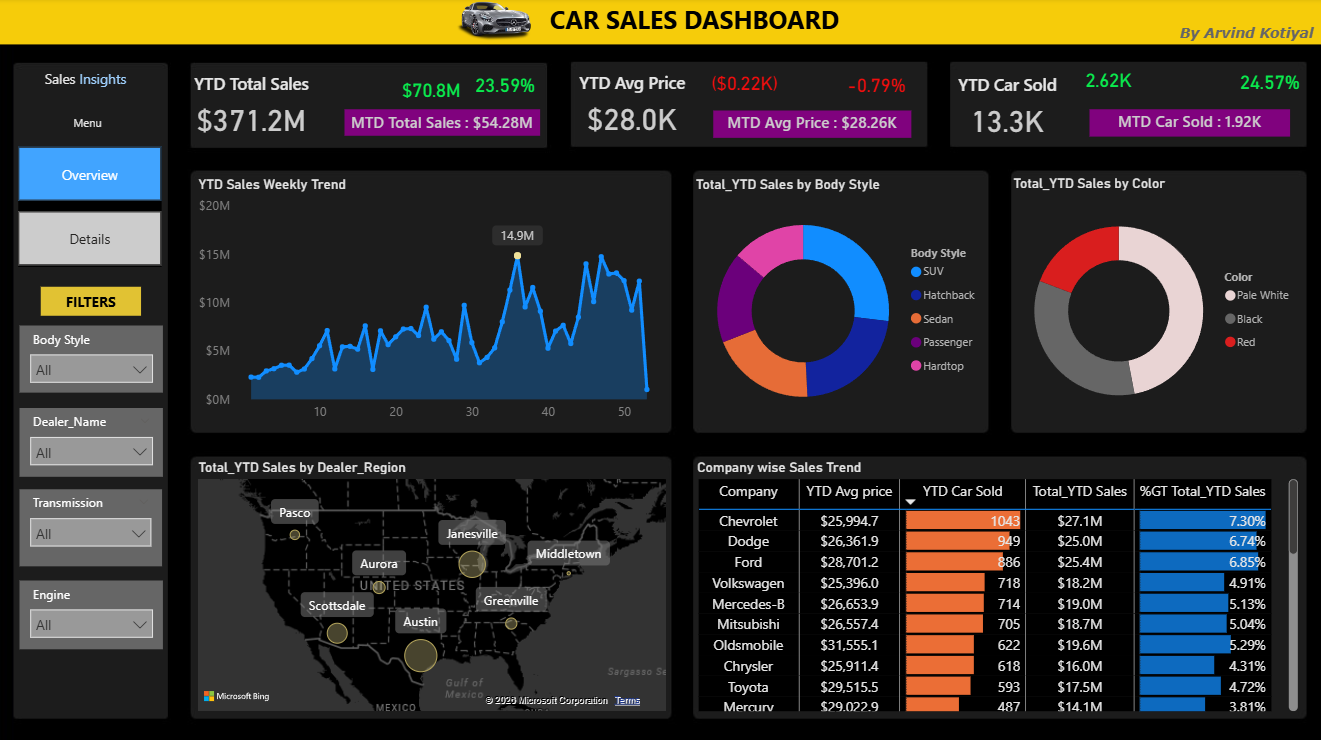

This screenshot's page, from the dashboard's own definition file:
{"tool":"powerbi","page":{"name":"Overview","canvas":[1280,720],"ordinal":0},"visuals":[{"type":"card","title":"YTD Total Sales","fields":{"Values":["car_data.Total_YTD Sales"]},"box":[164.1,71.2,162.9,70],"z":0},{"type":"card","title":"YTD Total Sales","fields":{"Values":["car_data.Sales difference"]},"box":[374,73.6,90.5,32.6],"z":1000},{"type":"card","title":"YTD Total Sales","fields":{"Values":["car_data.YOY"]},"box":[448.8,67.6,83.2,33.8],"z":2000},{"type":"card","fields":{"Values":["car_data.MTD KPI"]},"box":[335.6,107,188.5,25.5],"z":3000},{"type":"card","title":"YTD Avg Price","fields":{"Values":["car_data.YTD Avg price"]},"box":[546.1,70,133.1,70],"z":4000},{"type":"card","title":"YTD Total Sales","fields":{"Values":["car_data.Avg Price difference"]},"box":[677.2,66.9,90,32.8],"z":5000},{"type":"card","title":"YTD Total Sales","fields":{"Values":["car_data.YOY Avg price growth"]},"box":[804.7,66.4,88.1,36.2],"z":6000},{"type":"card","fields":{"Values":["car_data.MTD Avg Price KPI"]},"box":[691.8,108.2,190.9,26.7],"z":7000},{"type":"card","title":"YTD Car Sold","fields":{"Values":["car_data.YTD Car Sold"]},"box":[908.1,72.1,133.7,68.6],"z":8000},{"type":"card","title":"YTD Total Sales","fields":{"Values":["car_data.Car Sold Difference"]},"box":[1027.4,64.4,90,32.8],"z":9000},{"type":"card","title":"YTD Total Sales","fields":{"Values":["car_data.Car Sold Growth"]},"box":[1183,65.7,90,32.8],"z":10000},{"type":"card","fields":{"Values":["car_data.MTD Car Sold KPI"]},"box":[1054.1,107,193.3,26.7],"z":11000},{"type":"areaChart","title":"YTD Sales Weekly Trend","fields":{"Category":["Calender table.Week"],"Y":["Sum(car_data.Price ($))","car_data.Max Point"]},"box":[189.8,172.3,460.4,245],"z":12000},{"type":"donutChart","fields":{"Category":["car_data.Body Style"],"Y":["car_data.Total_YTD Sales"]},"box":[669.6,172.5,288.3,244.9],"z":13000},{"type":"donutChart","fields":{"Category":["car_data.Color"],"Y":["car_data.Total_YTD Sales"]},"box":[976,171.3,284.7,247.3],"z":14000},{"type":"map","fields":{"Category":["car_data.Dealer_Region"],"Size":["car_data.Total_YTD Sales"]},"box":[189.4,445.2,460.9,248.5],"z":15000},{"type":"tableEx","title":"Company wise Sales Trend","fields":{"Values":["car_data.Company","car_data.YTD Avg price","car_data.YTD Car Sold","car_data.Total_YTD Sales","Divide(car_data.Total_YTD Sales, ScopedEval(car_data.Total_YTD Sales, []))"]},"box":[670.8,445.2,589.9,248.5],"z":16000},{"type":"textbox","box":[0,0,1280,45],"z":17000},{"type":"slicer","fields":{"Values":["car_data.Body Style"]},"box":[21.7,316.1,138.7,65.1],"z":18000},{"type":"slicer","fields":{"Values":["car_data.Dealer_Name"]},"box":[21.7,395.7,138.7,66.4],"z":19000},{"type":"slicer","fields":{"Values":["car_data.Transmission"]},"box":[21.7,474.1,137.5,74.8],"z":20000},{"type":"slicer","fields":{"Values":["car_data.Engine"]},"box":[21.7,562.2,138.7,66.4],"z":21000},{"type":"textbox","box":[42.2,278.7,96.5,27.7],"z":22000},{"type":"textbox","box":[41,63.9,98.9,30.2],"z":23000},{"type":"textbox","box":[68.8,105,49.5,48.3],"z":24000},{"type":"pageNavigator","box":[20.5,143.6,138.7,115.8],"z":25000},{"type":"textbox","box":[1118.3,19.3,161.7,30.2],"z":26000},{"type":"image","box":[374,1.2,211.1,41],"z":27000}]}

Visuals, with their boxes in screenshot pixels (x1, y1, x2, y2), scaled from the page's 1280x720 canvas onto the 1321x740 screenshot:
"YTD Total Sales" card: {"x1": 169, "y1": 73, "x2": 337, "y2": 145}
"YTD Total Sales" card: {"x1": 386, "y1": 76, "x2": 479, "y2": 109}
"YTD Total Sales" card: {"x1": 463, "y1": 69, "x2": 549, "y2": 104}
card - car_data.MTD KPI: {"x1": 346, "y1": 110, "x2": 541, "y2": 136}
"YTD Avg Price" card: {"x1": 564, "y1": 72, "x2": 701, "y2": 144}
"YTD Total Sales" card: {"x1": 699, "y1": 69, "x2": 792, "y2": 102}
"YTD Total Sales" card: {"x1": 830, "y1": 68, "x2": 921, "y2": 105}
card - car_data.MTD Avg Price KPI: {"x1": 714, "y1": 111, "x2": 911, "y2": 139}
"YTD Car Sold" card: {"x1": 937, "y1": 74, "x2": 1075, "y2": 145}
"YTD Total Sales" card: {"x1": 1060, "y1": 66, "x2": 1153, "y2": 100}
"YTD Total Sales" card: {"x1": 1221, "y1": 68, "x2": 1314, "y2": 101}
card - car_data.MTD Car Sold KPI: {"x1": 1088, "y1": 110, "x2": 1287, "y2": 137}
"YTD Sales Weekly Trend" areaChart: {"x1": 196, "y1": 177, "x2": 671, "y2": 429}
donutChart - car_data.Body Style x car_data.Total_YTD Sales: {"x1": 691, "y1": 177, "x2": 989, "y2": 429}
donutChart - car_data.Color x car_data.Total_YTD Sales: {"x1": 1007, "y1": 176, "x2": 1301, "y2": 430}
map - car_data.Dealer_Region x car_data.Total_YTD Sales: {"x1": 195, "y1": 458, "x2": 671, "y2": 713}
"Company wise Sales Trend" tableEx: {"x1": 692, "y1": 458, "x2": 1301, "y2": 713}
textbox: {"x1": 0, "y1": 0, "x2": 1320, "y2": 46}
slicer - car_data.Body Style: {"x1": 22, "y1": 325, "x2": 166, "y2": 392}
slicer - car_data.Dealer_Name: {"x1": 22, "y1": 407, "x2": 166, "y2": 475}
slicer - car_data.Transmission: {"x1": 22, "y1": 487, "x2": 164, "y2": 564}
slicer - car_data.Engine: {"x1": 22, "y1": 578, "x2": 166, "y2": 646}
textbox: {"x1": 44, "y1": 286, "x2": 143, "y2": 315}
textbox: {"x1": 42, "y1": 66, "x2": 144, "y2": 97}
textbox: {"x1": 71, "y1": 108, "x2": 122, "y2": 158}
pageNavigator: {"x1": 21, "y1": 148, "x2": 164, "y2": 267}
textbox: {"x1": 1154, "y1": 20, "x2": 1320, "y2": 51}
image: {"x1": 386, "y1": 1, "x2": 604, "y2": 43}
